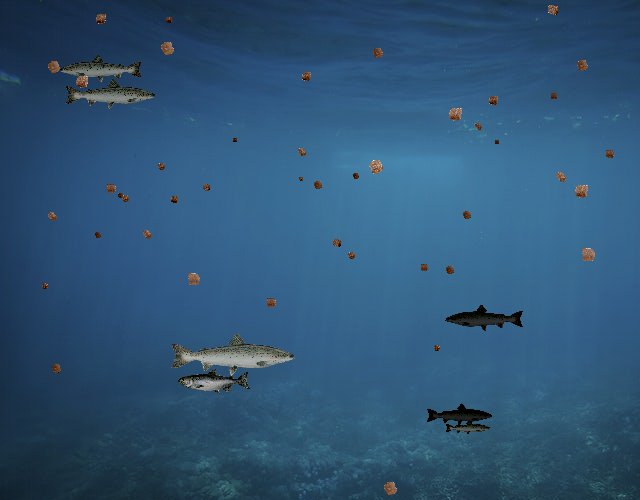Fish: (168, 331, 297, 377), (64, 77, 158, 111), (58, 53, 144, 84), (445, 303, 526, 332), (178, 368, 251, 394), (426, 402, 494, 426), (444, 419, 491, 436)
Pellet: (441, 100, 470, 129), (567, 178, 595, 206), (570, 54, 594, 78), (296, 66, 317, 87), (457, 206, 476, 225), (343, 247, 360, 264), (429, 341, 444, 355), (38, 279, 52, 293)
